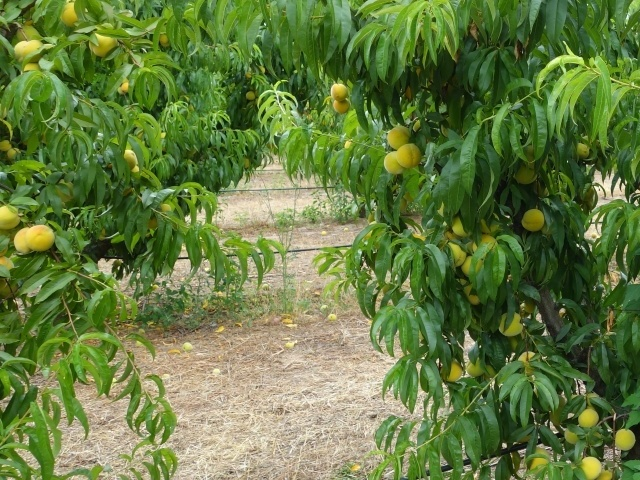peach: (25, 224, 57, 256), (83, 29, 116, 60), (438, 239, 469, 271), (53, 0, 84, 31), (394, 142, 427, 170), (381, 122, 414, 150), (518, 207, 547, 237), (377, 150, 406, 179), (496, 309, 524, 339), (469, 230, 500, 256), (526, 447, 555, 474), (610, 426, 637, 454), (513, 161, 541, 188), (575, 407, 604, 433), (456, 250, 481, 280), (440, 216, 468, 242), (10, 227, 35, 256), (18, 39, 46, 64), (576, 455, 604, 479), (1, 199, 23, 228), (441, 360, 467, 383), (515, 350, 542, 372), (557, 425, 580, 448), (463, 356, 486, 379), (327, 95, 352, 116), (326, 81, 349, 101)
